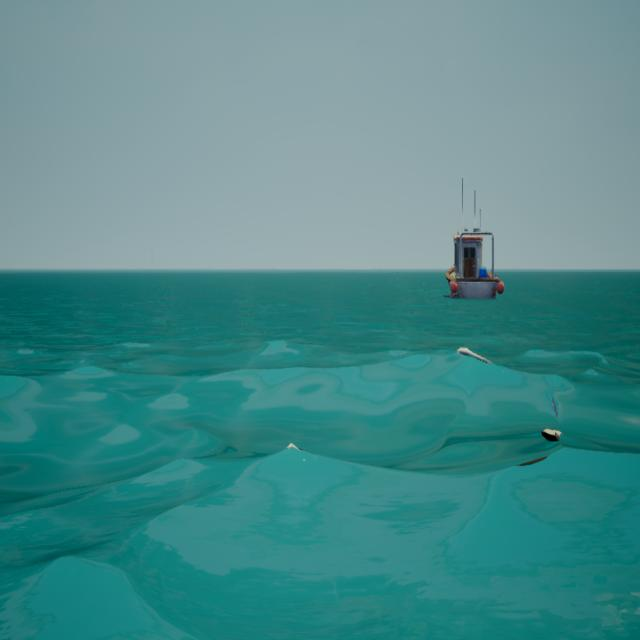ship: (443, 166, 510, 310)
